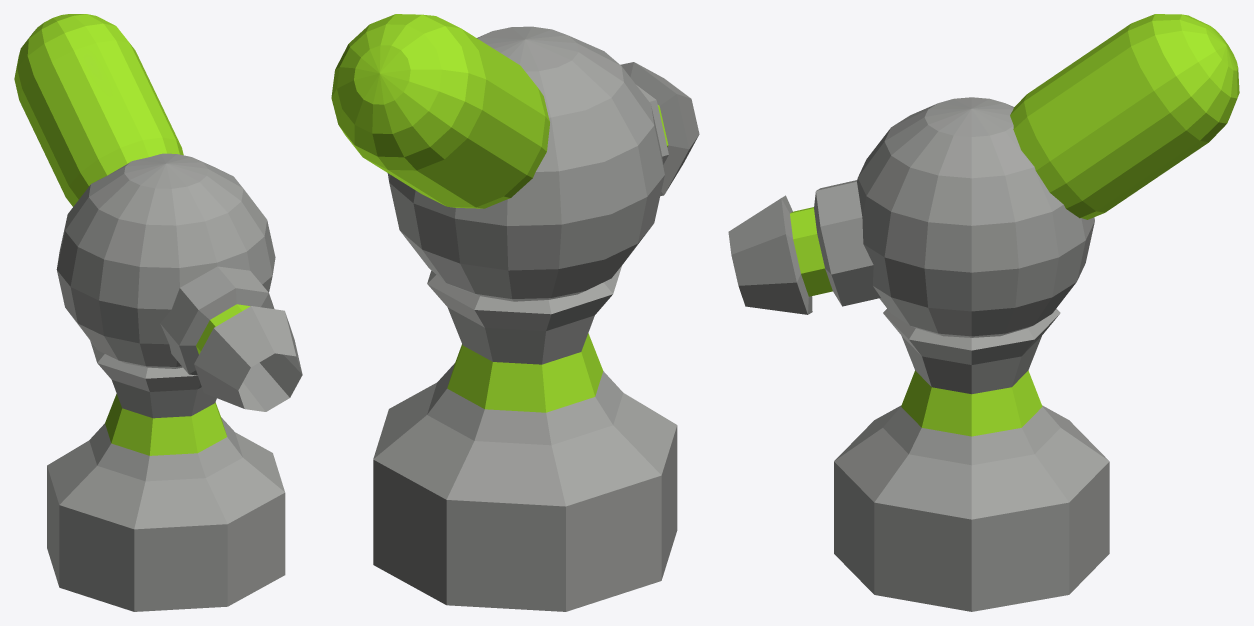
Rendered from Gel_Explosive.fbx.
3 renders of one model, left to right at view 1: azimuth 30°, elevation 25°; view 2: azimuth 150°, elevation 25°; view 3: azimuth 270°, elevation 25°, orthographic. The views are drawn at different scales.
Parts seen in each view (by area): view 1: Circle; view 2: Circle; view 3: Circle.
Boxes of the visible parts, x1,y1,x2,y2 form: Circle: (14, 14, 302, 611); Circle: (331, 14, 699, 611); Circle: (728, 14, 1239, 611).
Size of the model in its own units: 310 by 662 by 575.
Materials: 1 (1 with a texture image).
